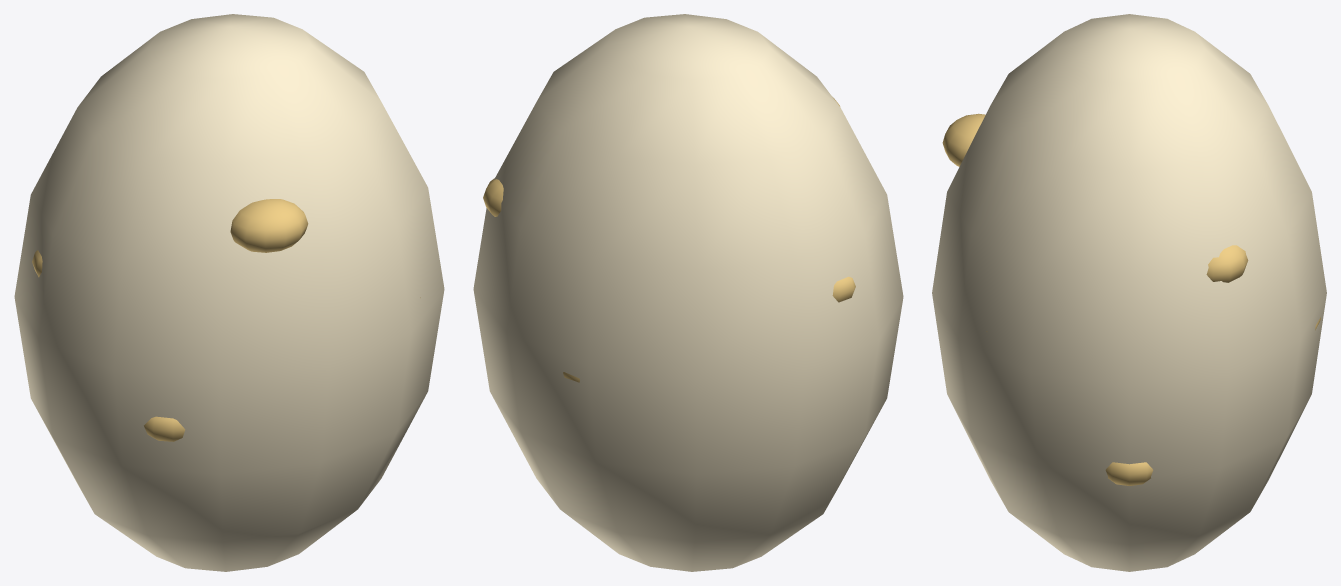
The model's file is lost-valley-dinosaurs-speckled-egg-b78255e0__1670.glb.
3 renders of one model, left to right at view 1: azimuth 30°, elevation 25°; view 2: azimuth 150°, elevation 25°; view 3: azimuth 270°, elevation 25°, orthographic.
Visible parts, largest first — view 1: speckled-egg; view 2: speckled-egg; view 3: speckled-egg.
Part boxes in pixels (x1,y1,x2,y2): speckled-egg: (14,14,444,571); speckled-egg: (473,14,903,571); speckled-egg: (932,14,1326,571).
Bounding box in the file's own units: 0.42 × 0.56 × 0.38.
